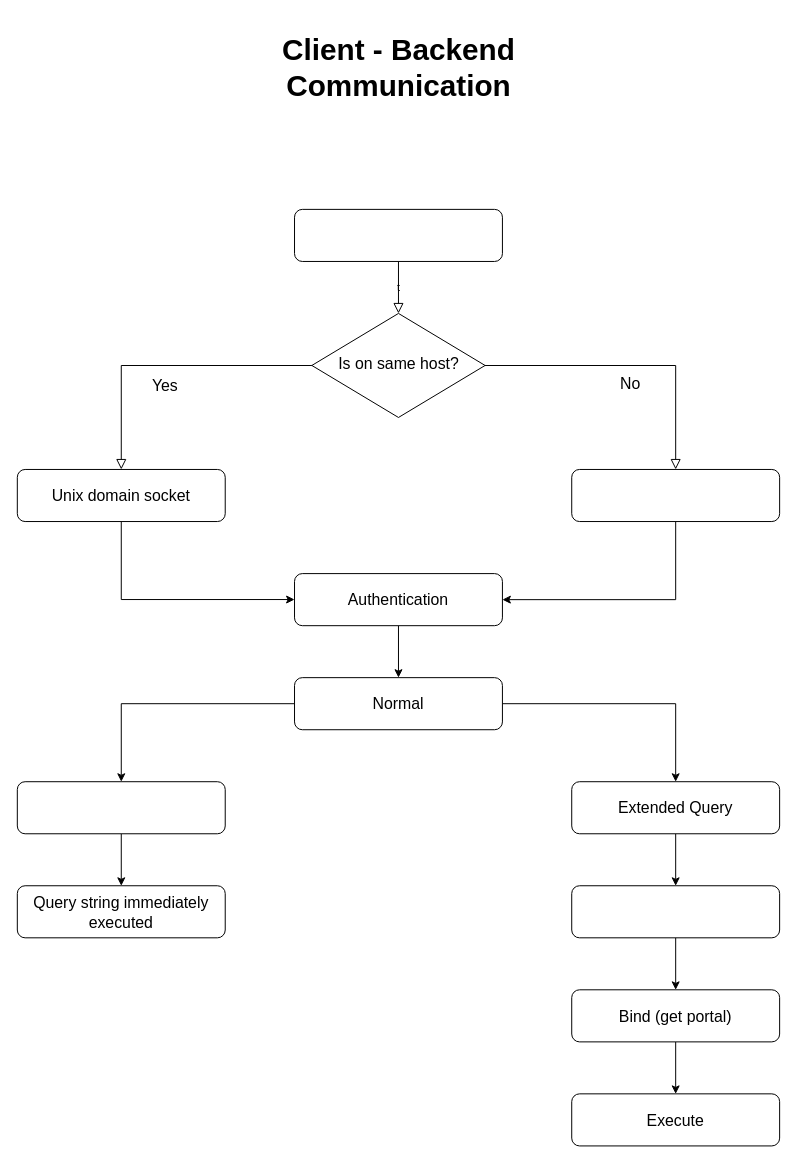
Some shapes in this 797 by 1163 pixel diagram are drawn without their labels. Here are the shapes that lost their labels. From the top down, the box of each, then its label:
(294, 208, 502, 261): Client
(571, 468, 780, 522): TCP/IP
(16, 781, 225, 834): Simple Query
(571, 885, 780, 938): Parse (get prepared)
